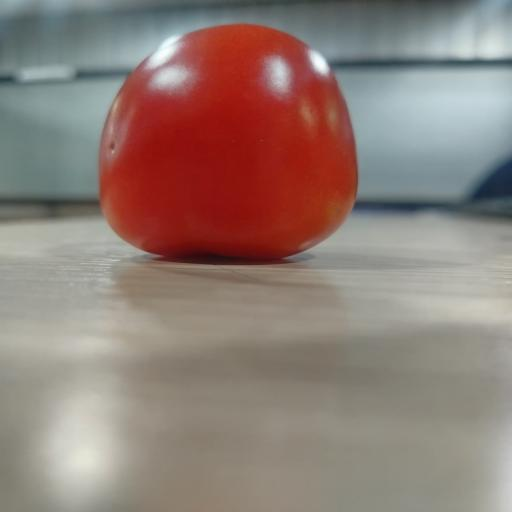ripe: (99, 24, 357, 259)
